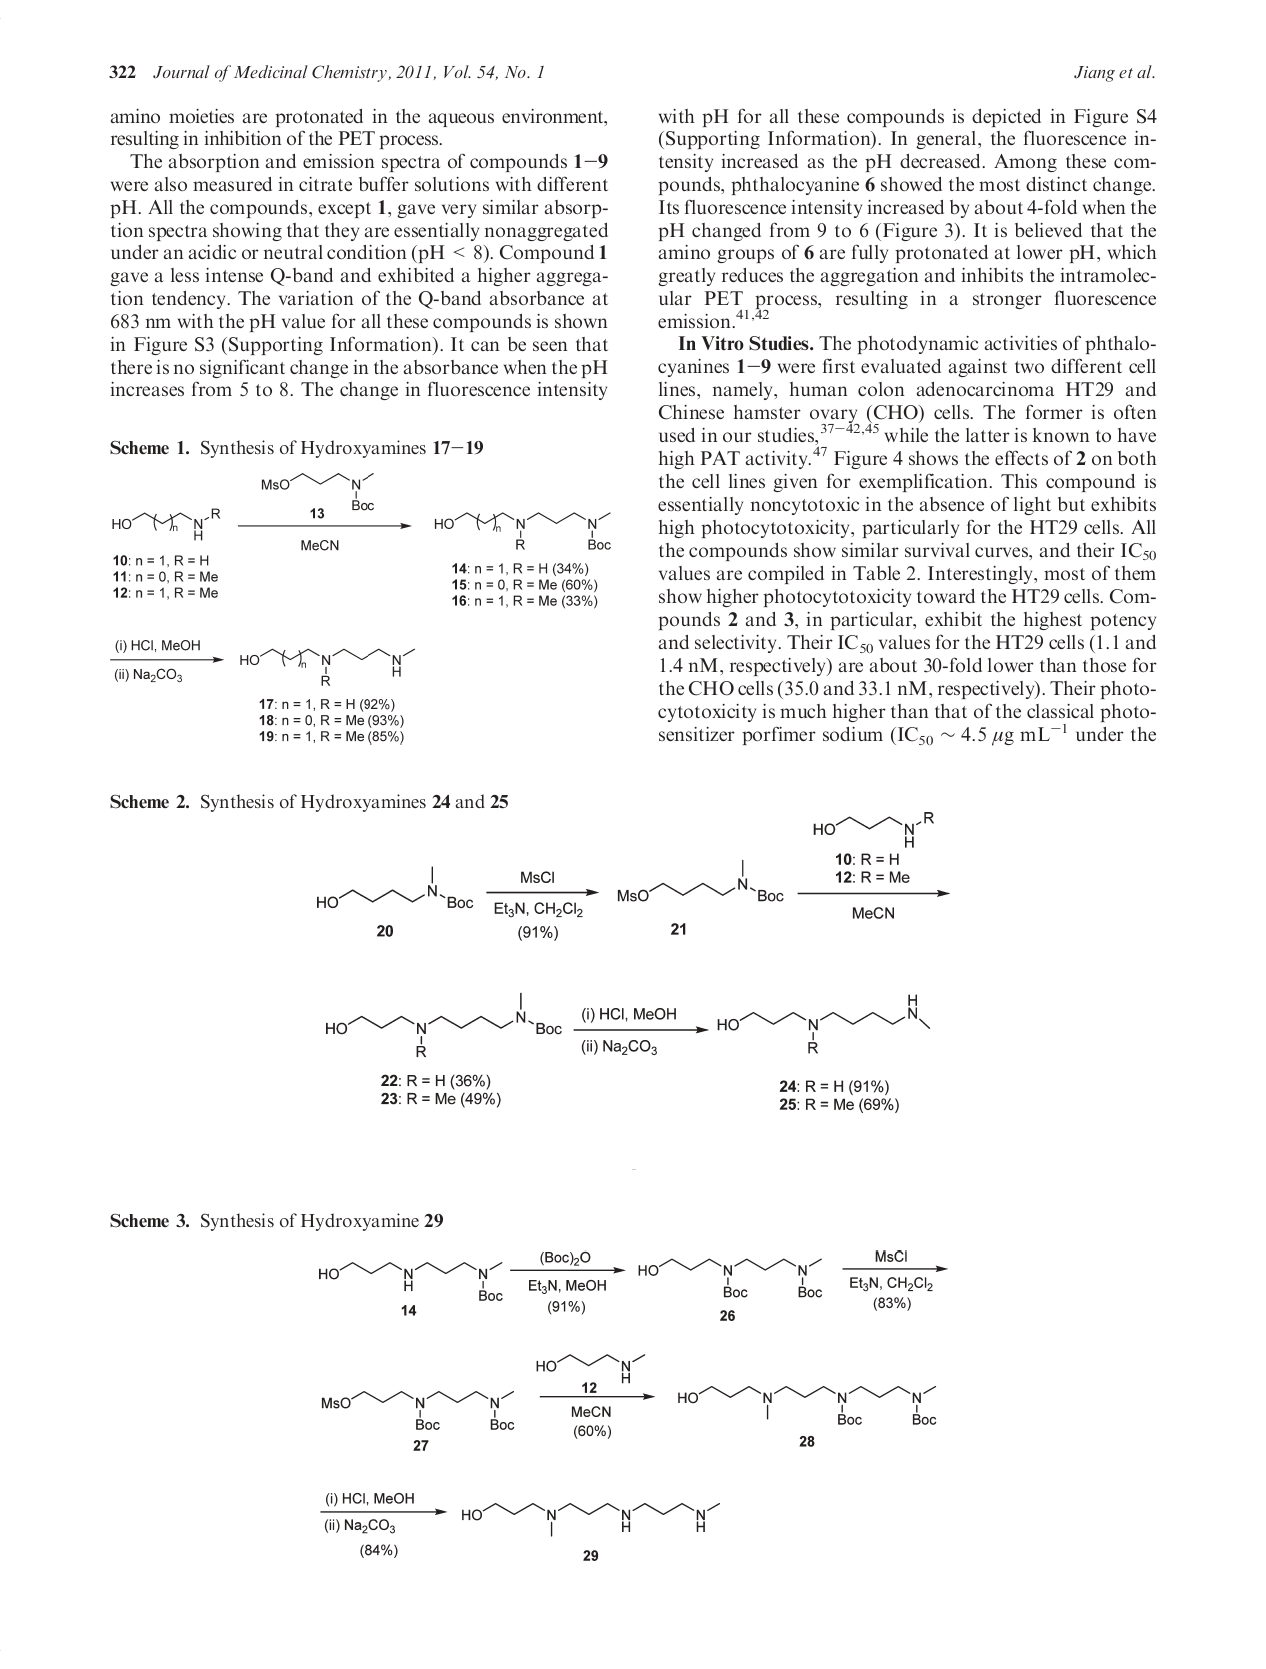exist_molecular: (323, 991, 565, 1061), (715, 989, 934, 1056), (673, 1379, 943, 1430), (457, 1497, 723, 1543), (318, 1386, 524, 1435), (634, 1253, 827, 1303), (431, 505, 617, 556), (315, 1257, 509, 1305), (614, 856, 786, 908), (313, 864, 476, 918), (235, 642, 419, 688), (261, 465, 378, 515), (810, 809, 936, 848), (533, 1346, 648, 1384), (110, 505, 223, 544)
